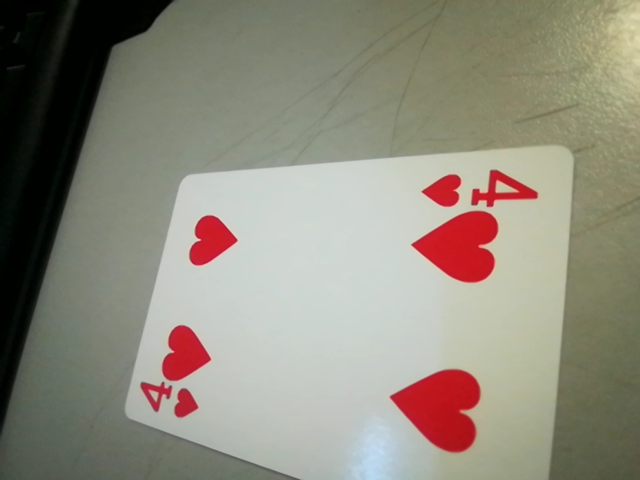hx 4: (425, 168, 541, 209)
